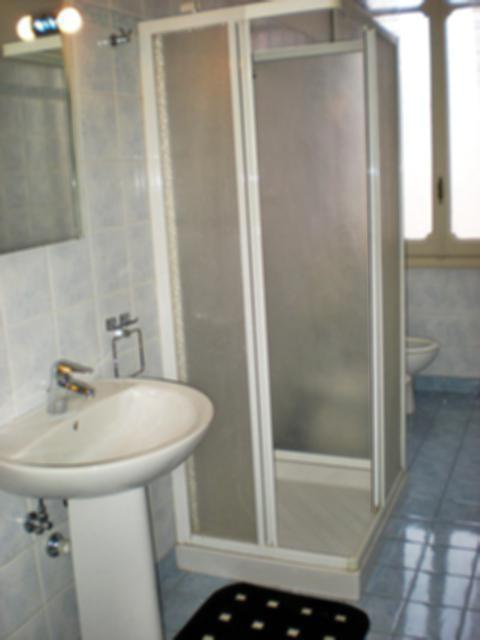Ducha: (135, 14, 406, 610)
Lavamanos: (0, 362, 219, 504)
